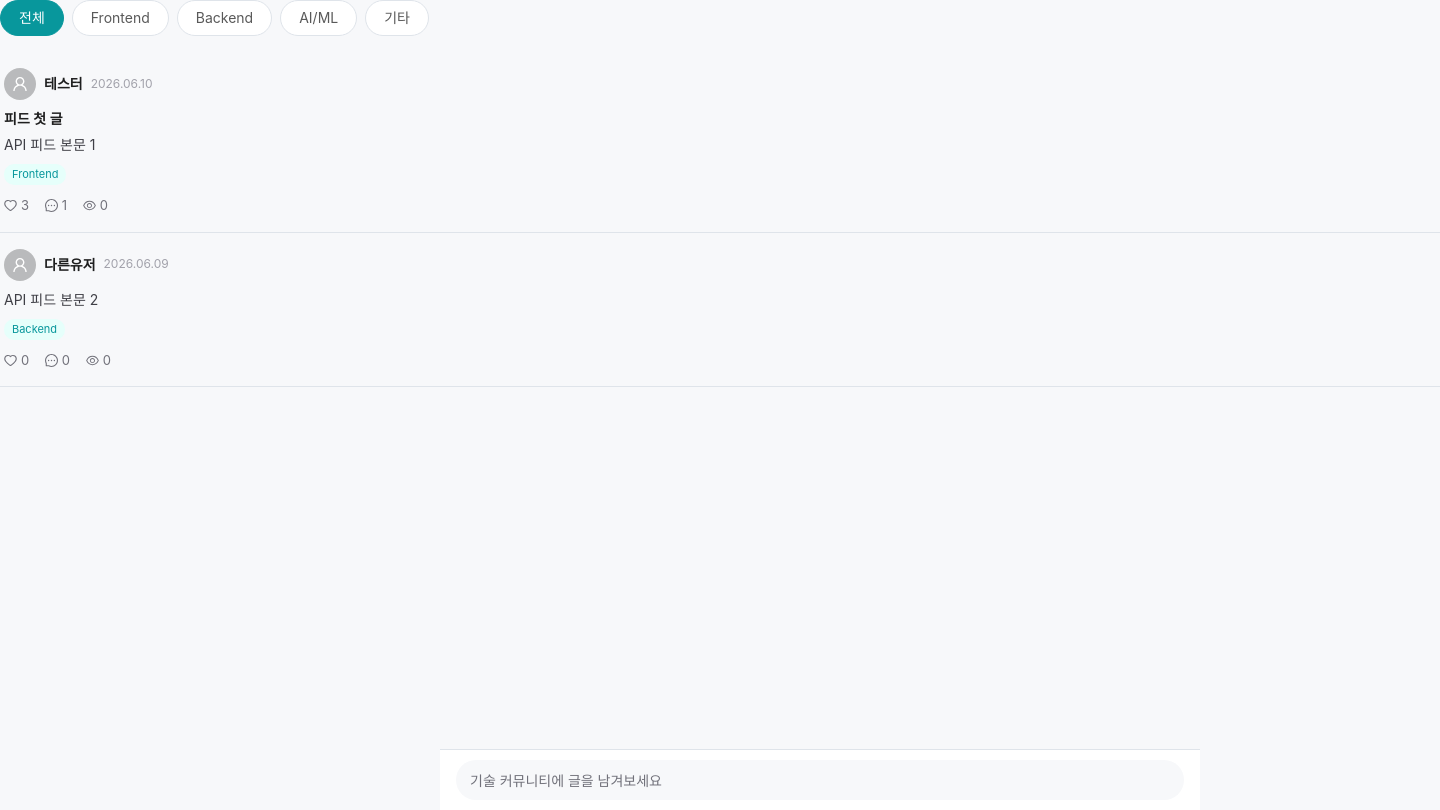
Test: TechCommunityPage › 카테고리 필터 선택 시 해당 카테고리 글만 조회한다
Expected: the text "API 피드 본문 1" is shown, left=4, top=136, right=95, bottom=153
What coordinates should you click on to do the following:
click the text "Backend" next to "AI/ML"
I would click on:
 (224, 18)
Its box is left=177, top=0, right=272, bottom=36.
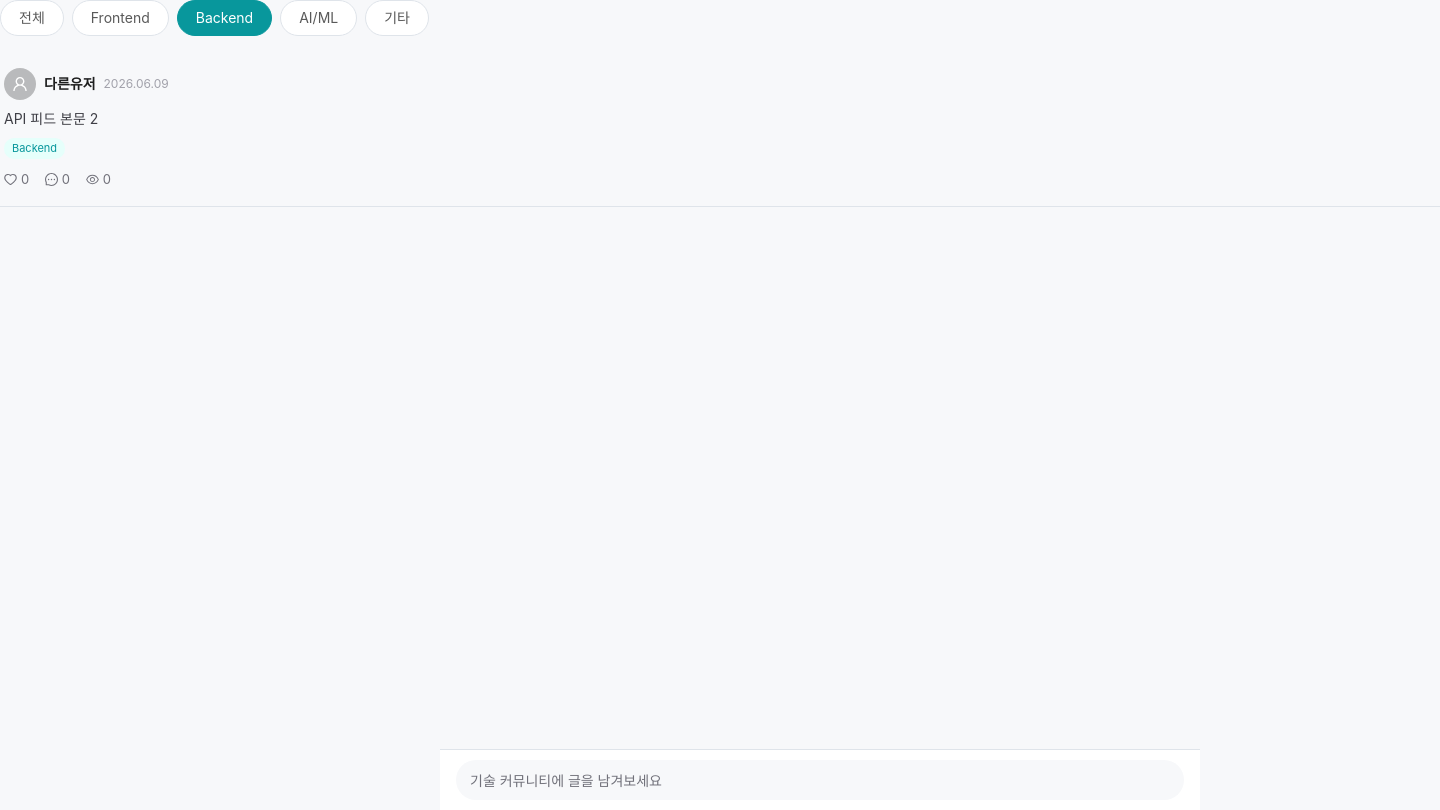
Expected: the text "API 피드 본문 2" is shown, left=4, top=110, right=98, bottom=127
Expected: the text "API 피드 본문 1" is gone
